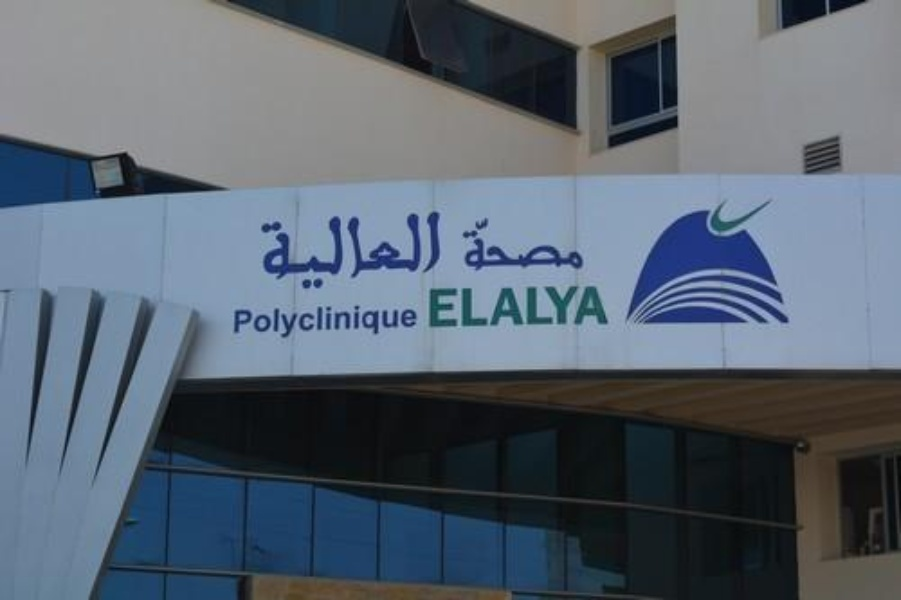text: (273, 208, 288, 291), (289, 208, 304, 291), (305, 208, 320, 291), (321, 208, 336, 291), (337, 208, 352, 291), (353, 208, 368, 291), (369, 208, 384, 291), (385, 208, 400, 291), (401, 208, 416, 291), (417, 208, 432, 291), (258, 208, 272, 291), (433, 208, 444, 291), (465, 215, 480, 274), (481, 215, 496, 274), (497, 215, 512, 274), (513, 215, 528, 274), (529, 215, 544, 274), (545, 215, 560, 274), (561, 215, 576, 274), (577, 215, 588, 274), (433, 287, 448, 327), (449, 287, 464, 327), (465, 287, 480, 327), (481, 287, 496, 327), (497, 287, 512, 327), (513, 287, 528, 327), (529, 287, 544, 327), (545, 287, 560, 327), (561, 287, 576, 327), (577, 287, 592, 327), (593, 287, 608, 327), (241, 300, 256, 339), (257, 300, 272, 339), (273, 300, 288, 339), (289, 300, 304, 339), (305, 300, 320, 339), (321, 300, 336, 339), (337, 300, 352, 339), (353, 300, 368, 339), (369, 300, 384, 339), (385, 300, 400, 339), (401, 300, 416, 339), (426, 287, 432, 327), (235, 300, 240, 339), (462, 215, 464, 274), (417, 300, 419, 339)
